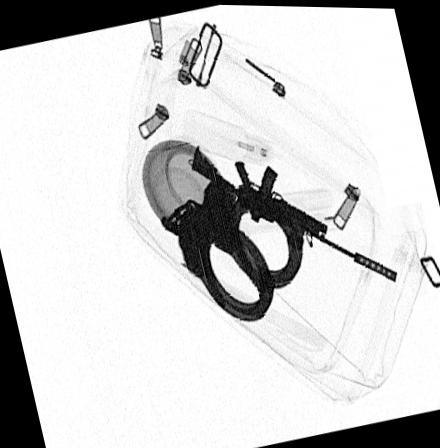Gun: (189, 142, 397, 278)
HandCuffs: (156, 174, 306, 317)
